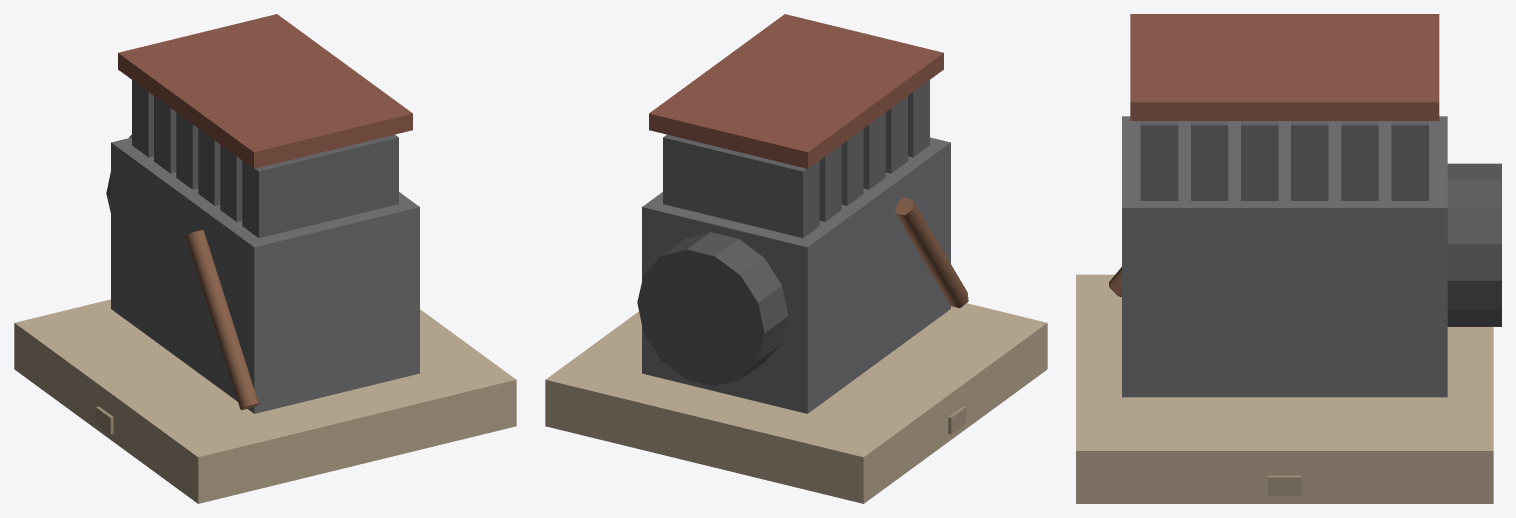
The model's file is garage_spare_engine_a.glb.
3 views of the same model, side by side, from view 1: azimuth 30°, elevation 25°; view 2: azimuth 150°, elevation 25°; view 3: azimuth 270°, elevation 25° (orthographic). The views are drawn at different scales.
Visible parts, largest first — view 1: body; view 2: body; view 3: body.
Part boxes in pixels (<box>): body: <box>14,14,516,503</box>; body: <box>545,14,1047,503</box>; body: <box>1076,14,1501,503</box>.
Size of what is drawn, in the model's own units: 1.02 by 0.945 by 1.02.
